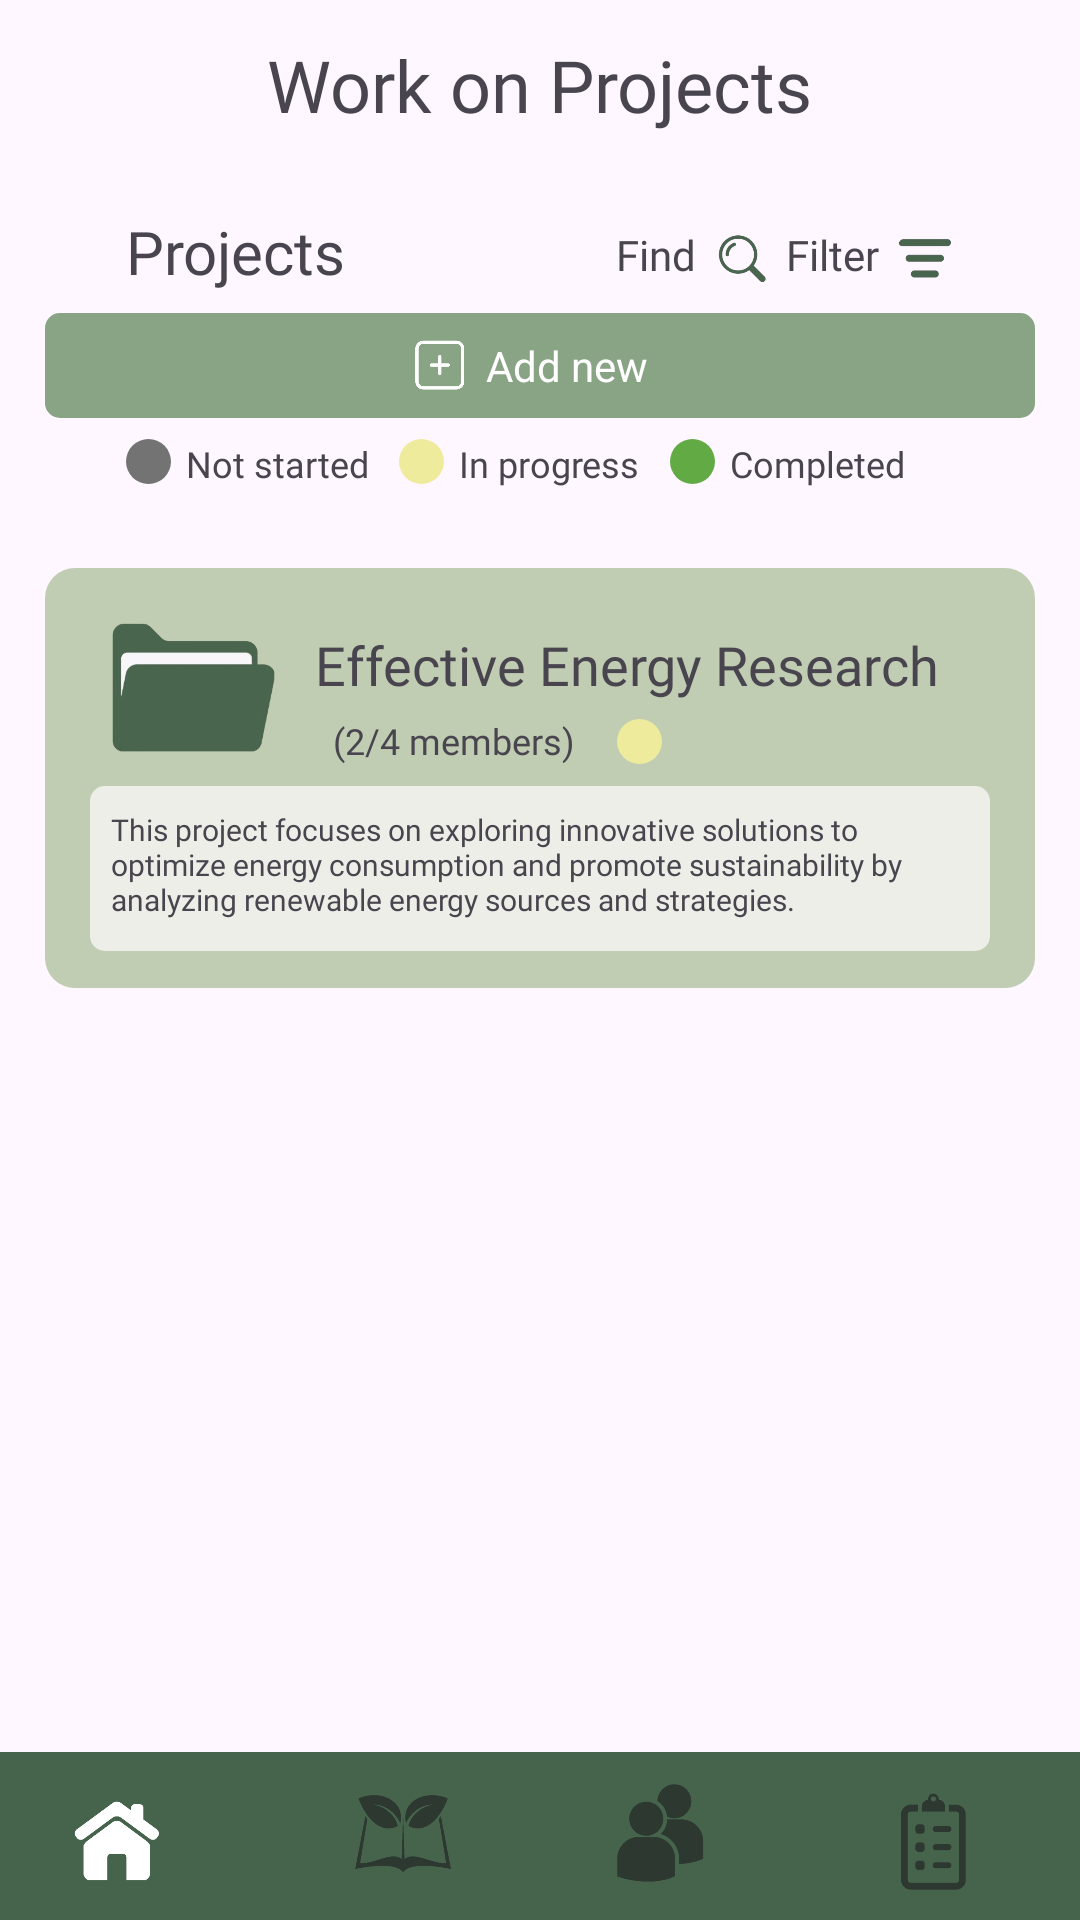

Named icons in this screenshot (1080px x 1920px) and their bounding boxes, BBox(x1, y1, x2, y2):
collab search: BBox(719, 235, 766, 282)
